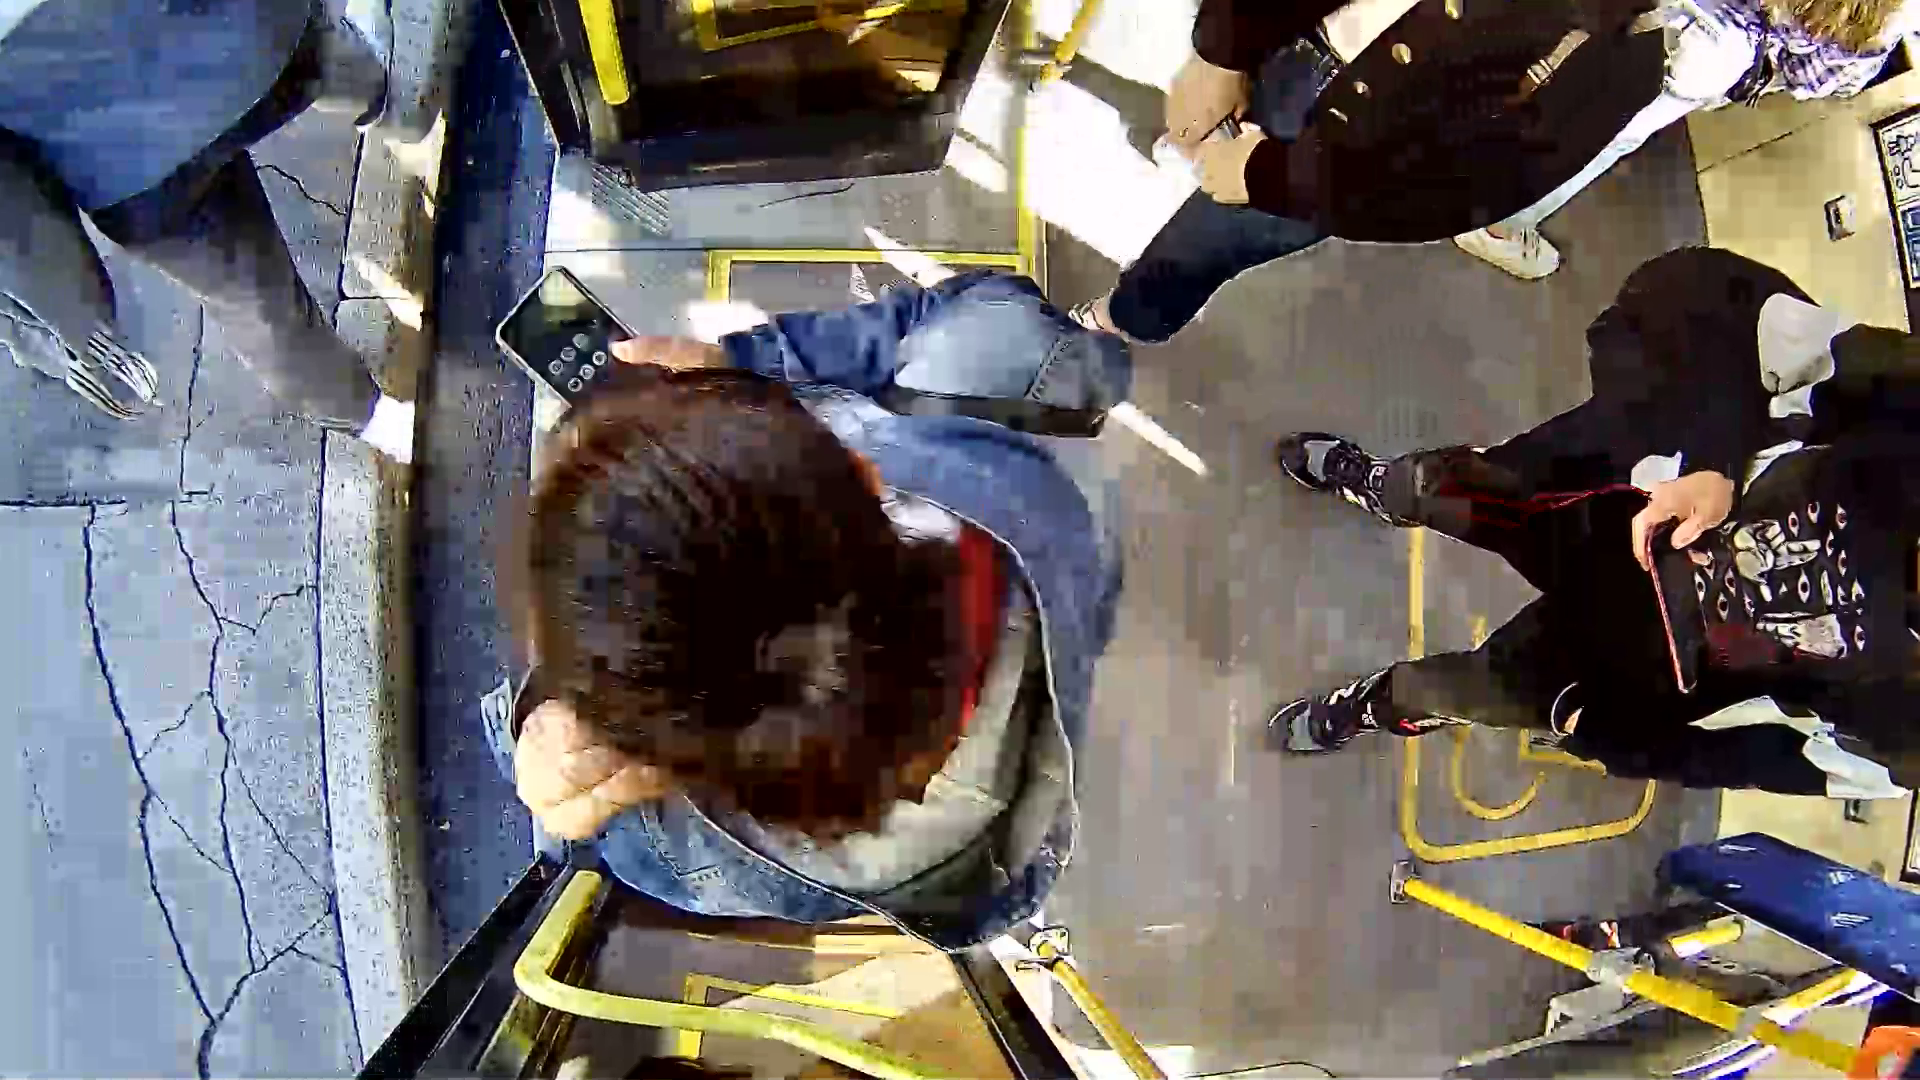person: (433, 258, 1205, 965)
